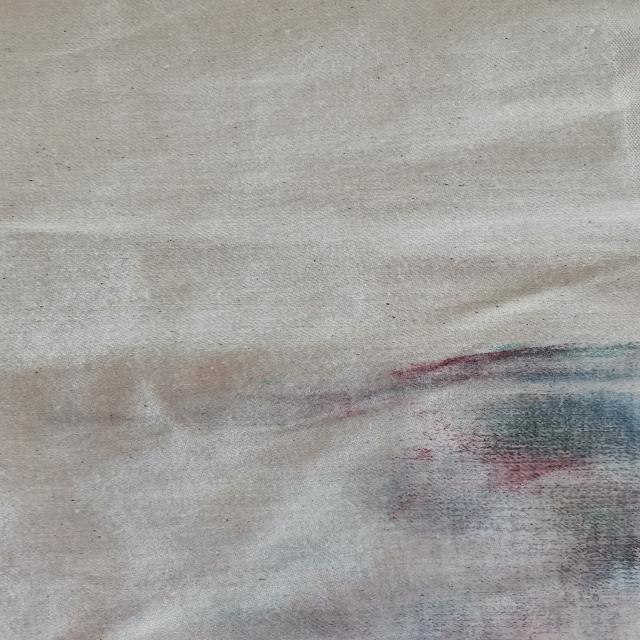taaaches: (263, 334, 640, 640)
